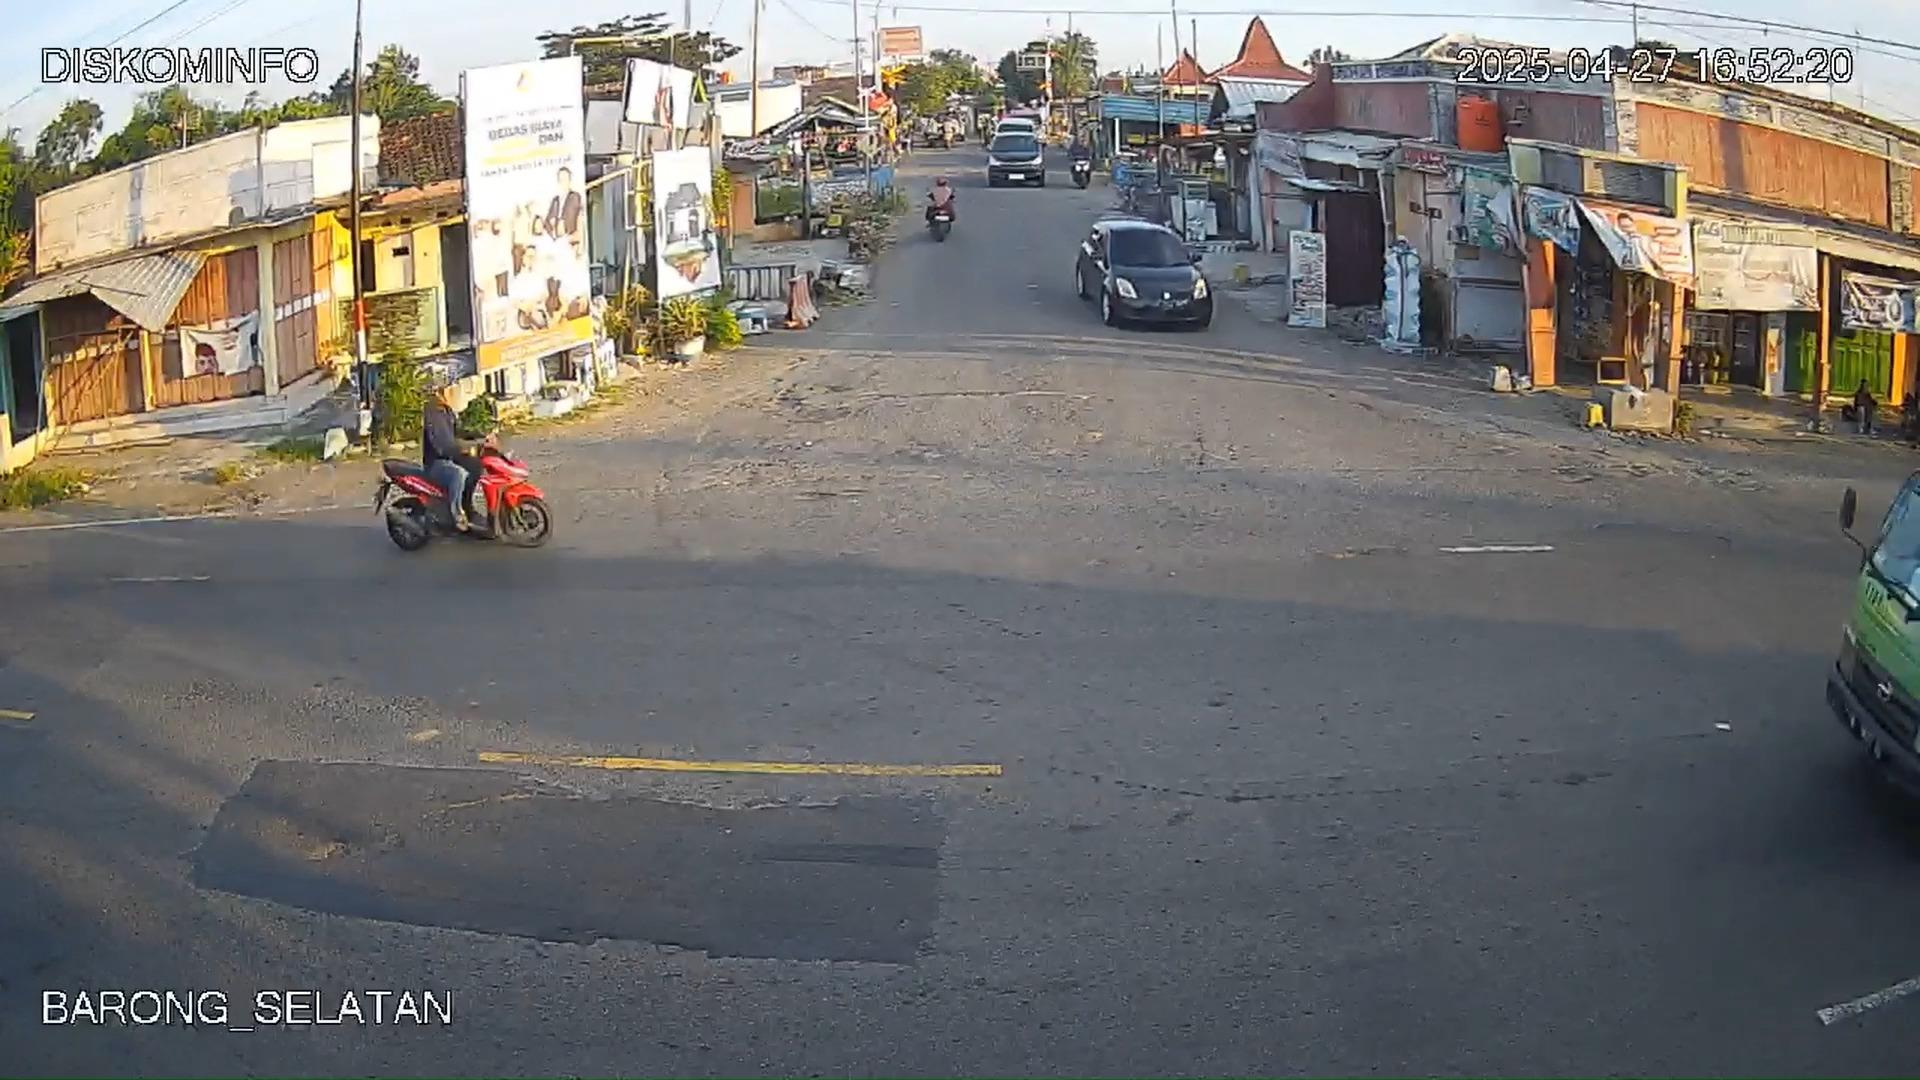Motor: (380, 381, 547, 554)
Truck: (1822, 469, 1919, 811)
mobil: (1075, 216, 1205, 331)
